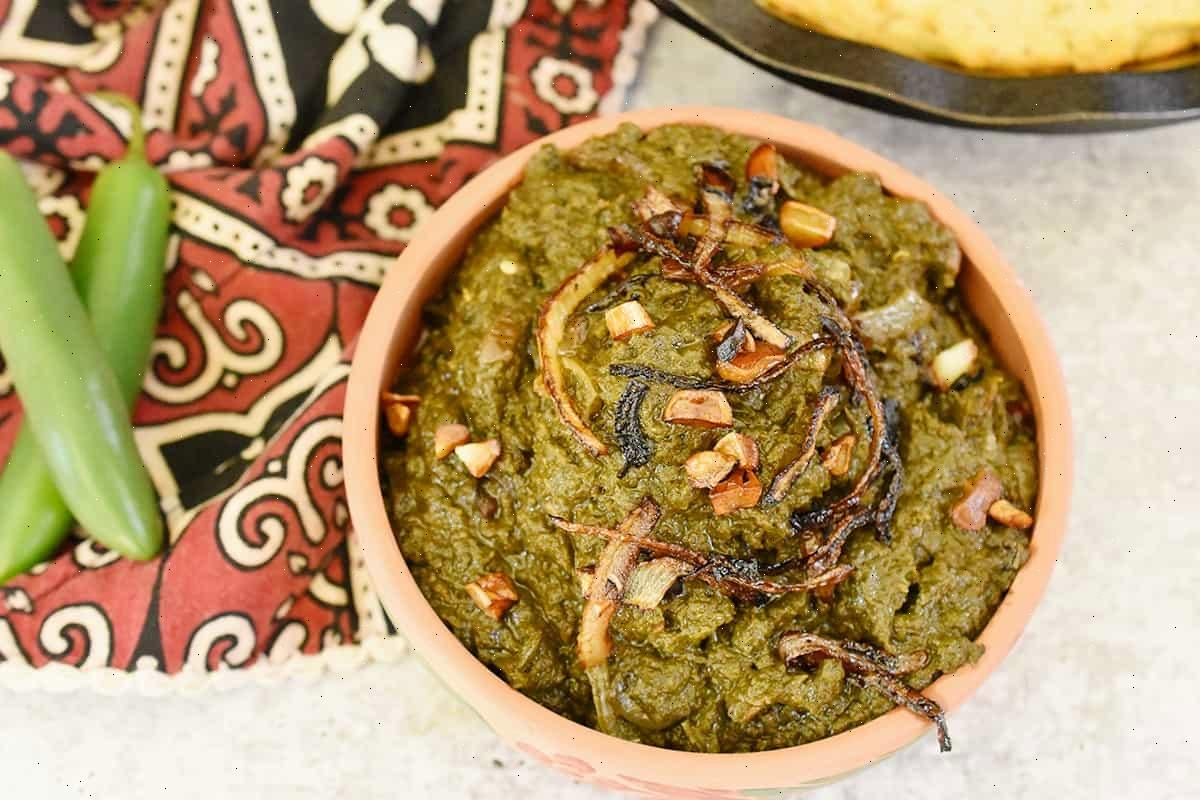saag: (417, 153, 1043, 752)
